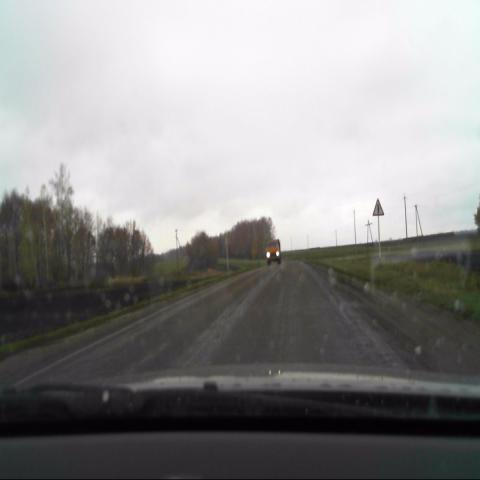2_3_2: (372, 197, 385, 216)
